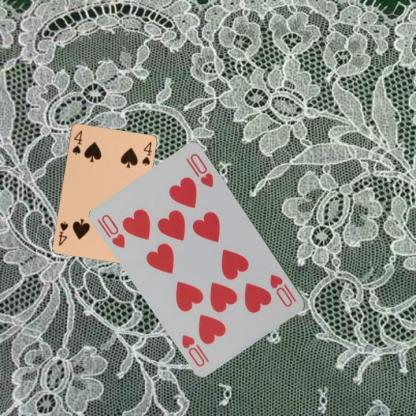10h: (268, 272, 298, 308), (99, 212, 127, 249)
4s: (70, 128, 83, 155)
